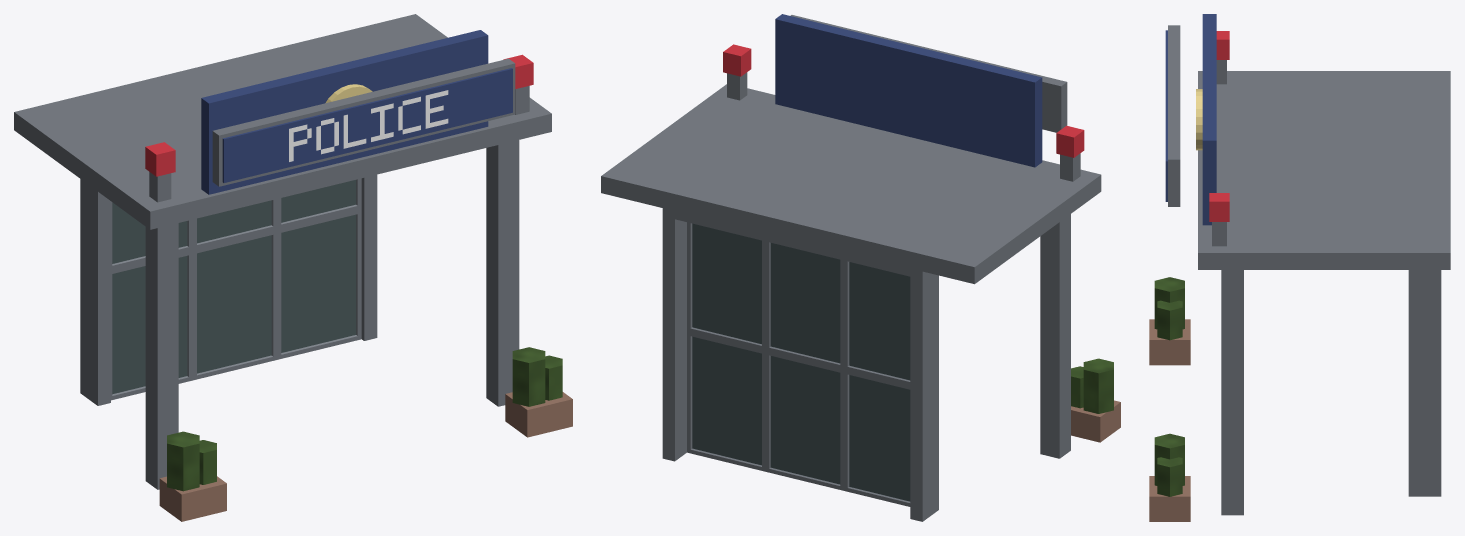
The model's file is entrance_close.fbx.
3 views of the same model, side by side, from view 1: azimuth 30°, elevation 25°; view 2: azimuth 150°, elevation 25°; view 3: azimuth 270°, elevation 25° (orthographic). The views are drawn at different scales.
Visible parts, largest first — view 1: a1053_entrance.001; view 2: a1053_entrance.001; view 3: a1053_entrance.001.
Part boxes in pixels (box(x1,y1,x2,y2)): a1053_entrance.001: box(14, 14, 572, 521); a1053_entrance.001: box(601, 14, 1120, 521); a1053_entrance.001: box(1149, 14, 1450, 521).
Size of the model in its own units: 4.6 by 4.2 by 3.22.
